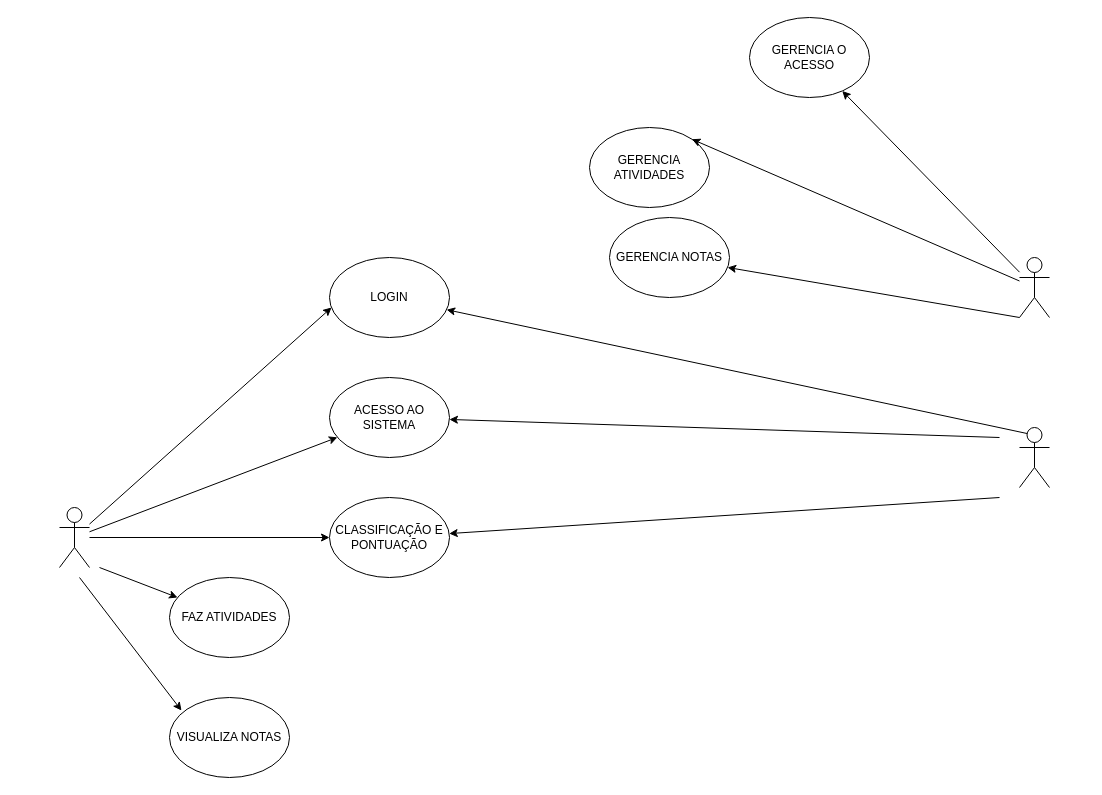
Image size: 1102x795. Some labels were removed from this diagram. Here are the shapes that lost their labels. From the top down, the centre of each, then its label:
At point 1034,287: "ADMINISTRADOR".
At point 1034,457: "EMPRESAS".
At point 74,537: "USUARIOS/ALUNOS".
